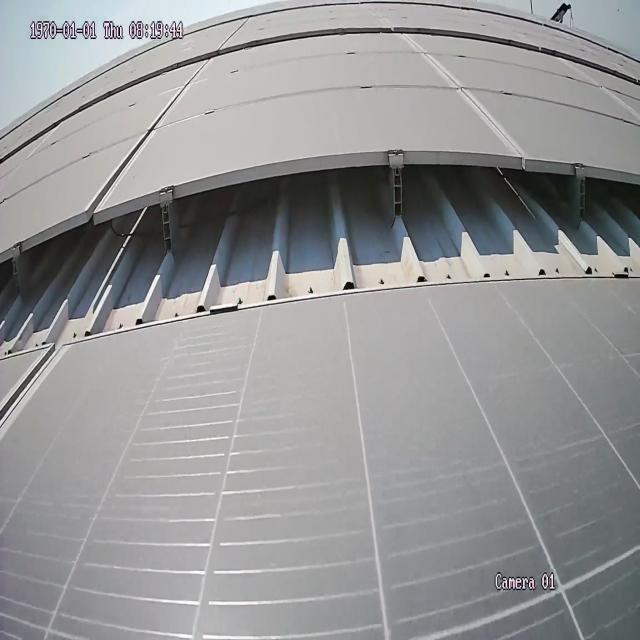interior panel: (91, 67, 208, 205), (401, 40, 527, 148), (1, 358, 64, 443)
outher panel: (7, 153, 640, 360)
